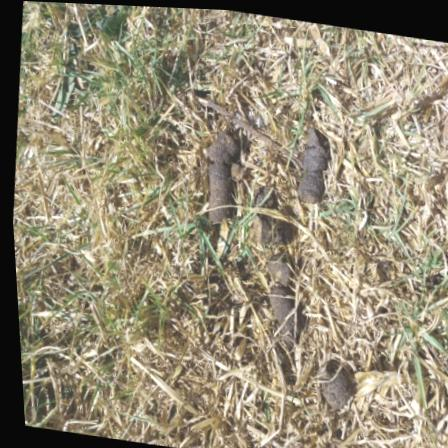dog-poop: (237, 194, 310, 337), (181, 121, 248, 223), (283, 116, 333, 225), (305, 356, 357, 414)
